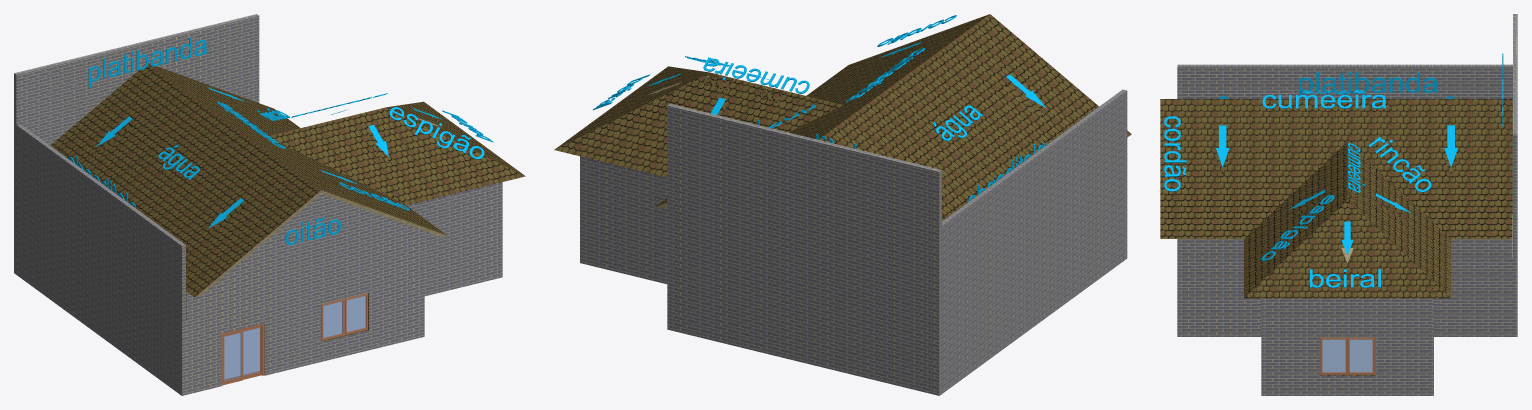
Rendered from casaa.gltf.
3 views of the same model, side by side, from view 1: azimuth 30°, elevation 25°; view 2: azimuth 150°, elevation 25°; view 3: azimuth 270°, elevation 25° (orthographic). The views are drawn at different scales.
Visible parts, largest first — view 1: root; view 2: root; view 3: root.
Boxes of the visible parts, box(x1,y1,x2,y2) form: root: box(14, 14, 525, 395); root: box(554, 14, 1131, 395); root: box(1160, 14, 1517, 395).
Bounding box in the file's own units: 15.8 × 8 × 12.79.
9 materials, 5 textured.
